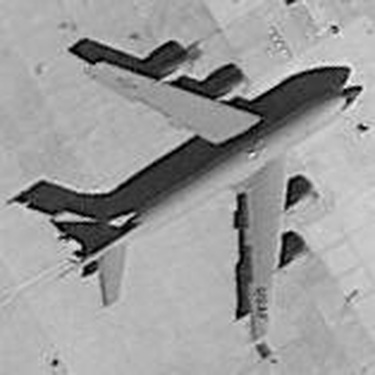airplane: (33, 30, 366, 357)
